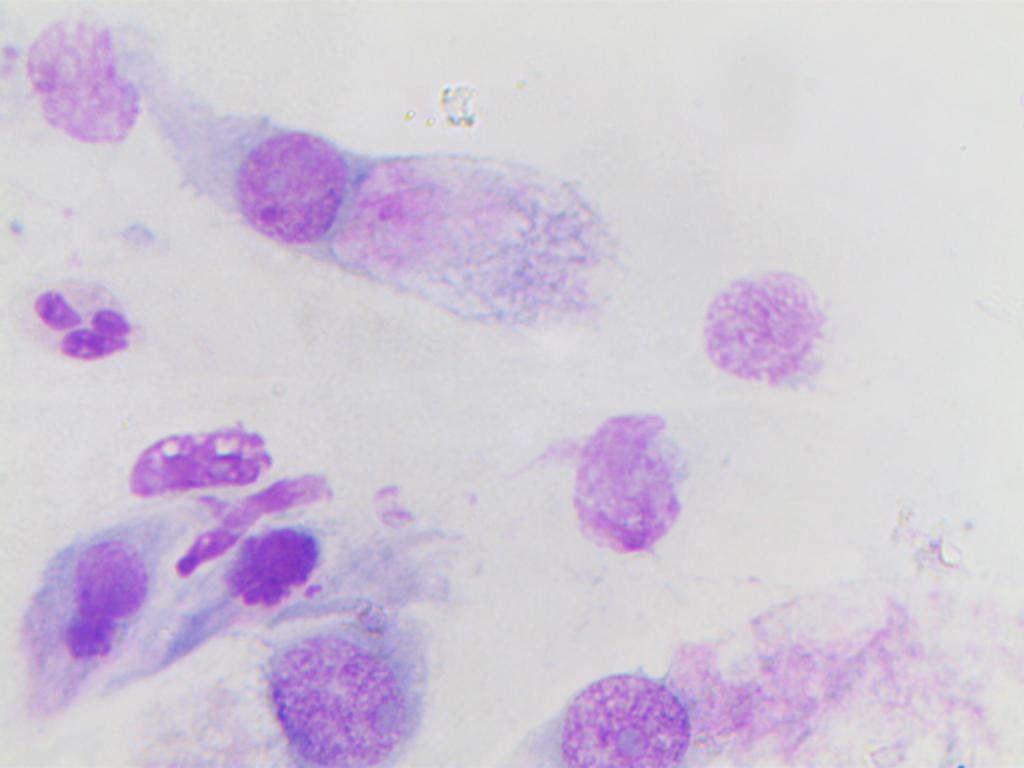artifact: (172, 469, 356, 578), (120, 412, 281, 493), (196, 520, 339, 607)
epithelial: (522, 605, 965, 767), (27, 509, 171, 697), (239, 626, 428, 767), (563, 400, 706, 571), (693, 258, 837, 399), (6, 4, 150, 145)
goblet_cell: (220, 122, 602, 329)
neutrophil: (3, 255, 147, 396)
